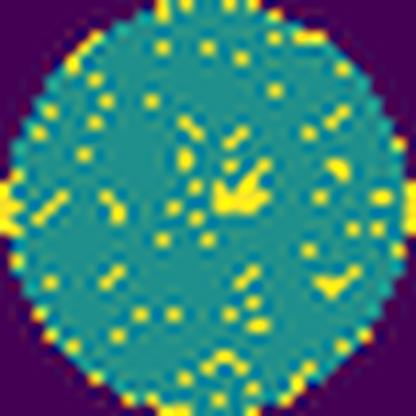Loc: (208, 153, 276, 215)
